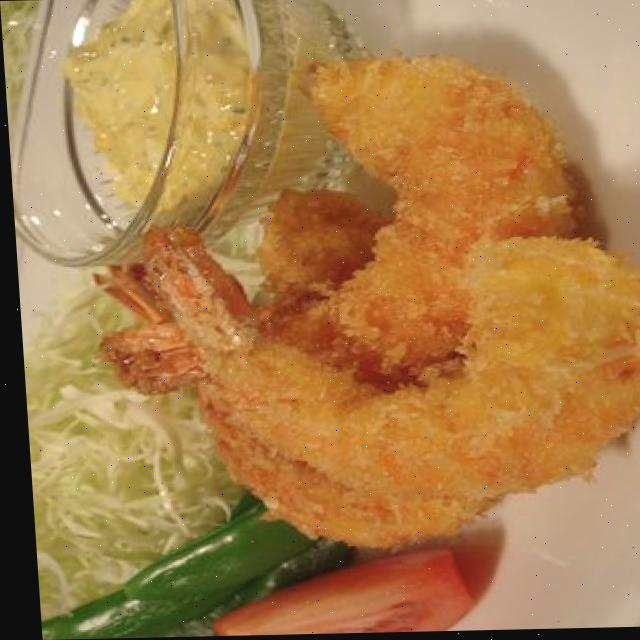炸货点心: (61, 33, 640, 587)
熟制海鲜: (61, 33, 640, 587)
